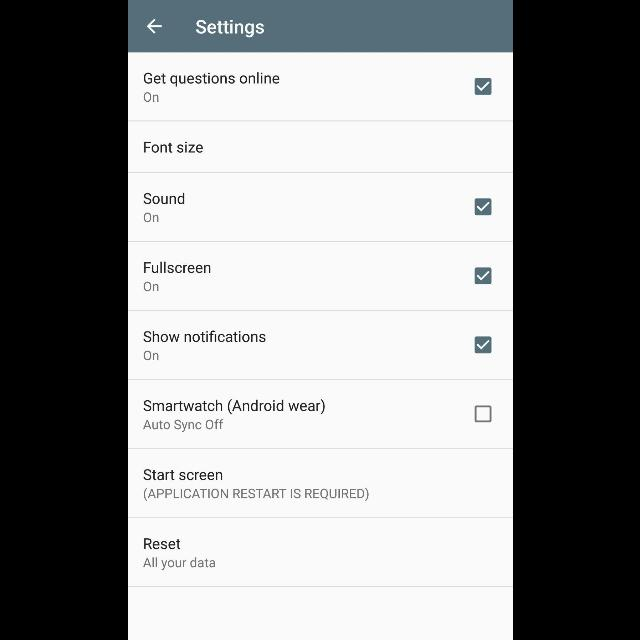checkbox: (474, 336, 491, 354), (474, 198, 491, 216), (474, 78, 491, 96), (474, 406, 491, 422), (474, 268, 491, 284)
icon: (146, 18, 162, 34)
text: (142, 487, 368, 501), (142, 399, 324, 415), (143, 73, 279, 87), (143, 330, 265, 342), (195, 20, 263, 38), (142, 556, 215, 570), (143, 420, 225, 432), (142, 469, 222, 481), (144, 262, 210, 274), (144, 141, 202, 153), (142, 193, 184, 205), (144, 538, 180, 550), (142, 281, 158, 291), (144, 351, 158, 362), (144, 91, 158, 102), (144, 213, 158, 223)
toolbar: (128, 1, 512, 53)
